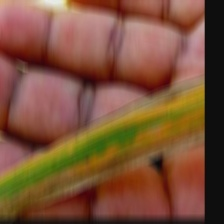Leaf_Blast: (25, 77, 202, 204)
